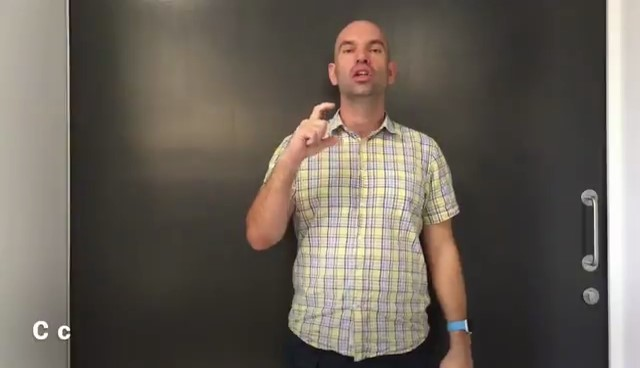C: (283, 97, 355, 167)
